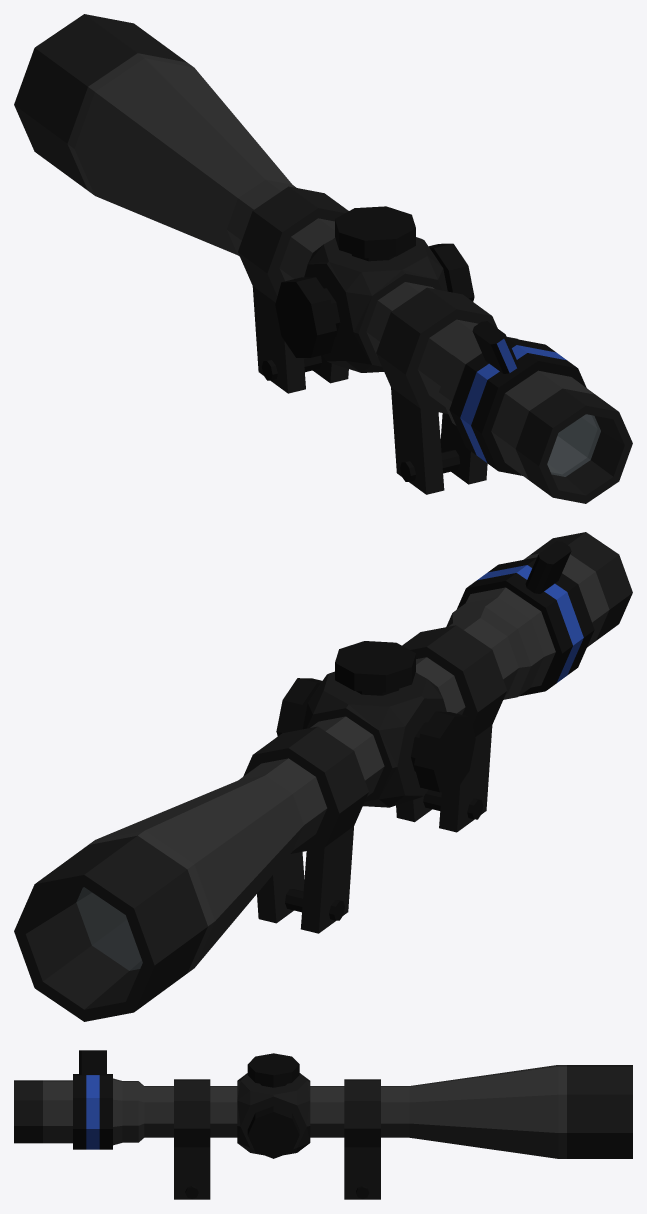
Rendered from luneta.glb.
3 views of the same model, one above another, from view 1: azimuth 30°, elevation 25°; view 2: azimuth 150°, elevation 25°; view 3: azimuth 270°, elevation 25° (orthographic). The views are drawn at different scales.
Visible parts, largest first — view 1: luneta-malha; view 2: luneta-malha; view 3: luneta-malha.
Boxes of the visible parts, bbox=[...] form: luneta-malha: bbox=[14, 14, 632, 503]; luneta-malha: bbox=[14, 532, 632, 1021]; luneta-malha: bbox=[14, 1050, 632, 1199].
Bounding box in the file's own units: 0.0648 × 0.0843 × 0.3581.
